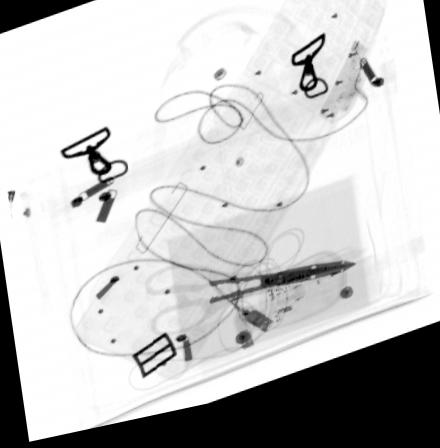Scissors: (146, 271, 356, 343)
